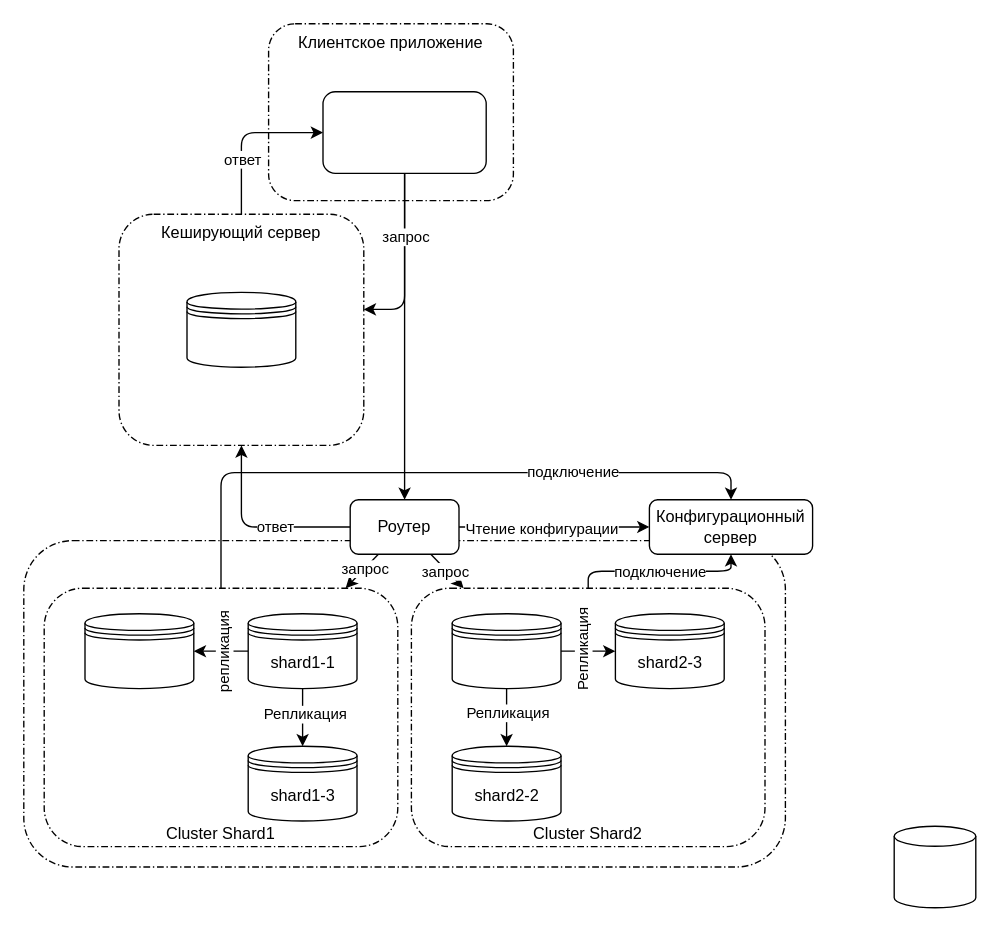
Some shapes in this 1000 by 932 pixel diagram are drawn without their labels. Each missing label, with the centre of its shape:
"MongoDB" goes at [934,866].
"pymongo-api" goes at [404,131].
"redis" goes at [241,329].
"shard1-2" goes at [139,650].
"shard2-1" goes at [506,650].
